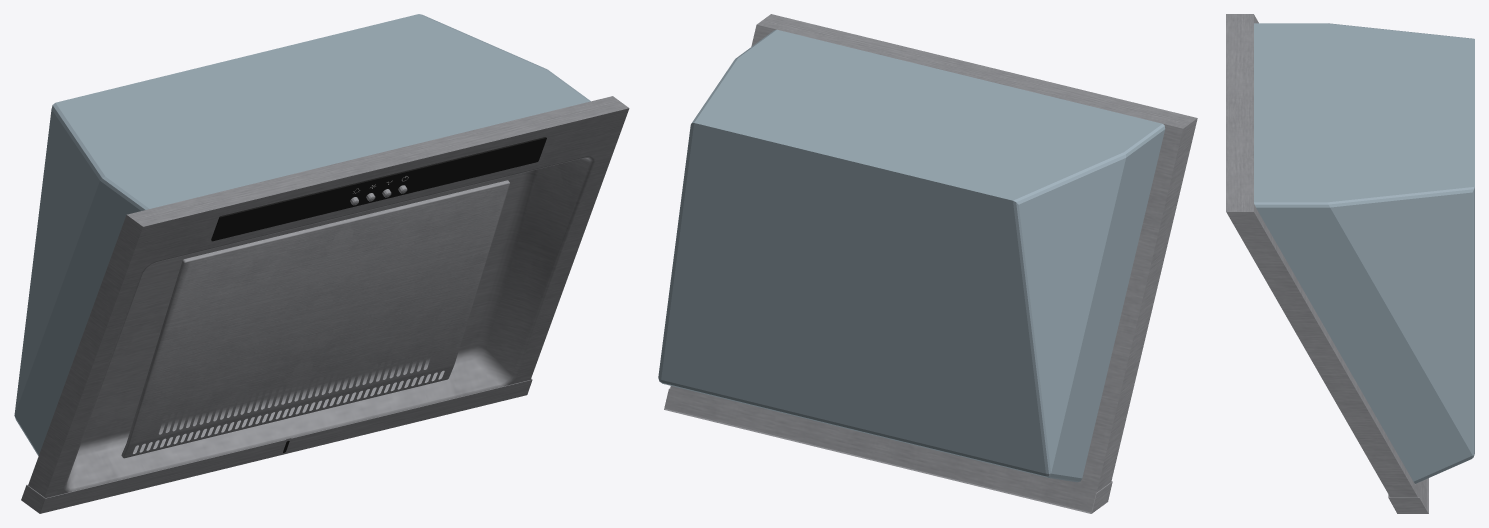
The model's file is kitchen_hood.glb.
3 views of the same model, side by side, from view 1: azimuth 30°, elevation 25°; view 2: azimuth 150°, elevation 25°; view 3: azimuth 270°, elevation 25° (orthographic). The views are drawn at different scales.
Parts seen in each view (by area): view 1: 002_Plane.000, 001_Plane.002, 003_Plane.003, 005_Plane.004, 004_Plane.001; view 2: 002_Plane.000, 001_Plane.002, 005_Plane.004; view 3: 002_Plane.000, 001_Plane.002, 005_Plane.004.
Boxes of the visible parts, x1,y1,x2,y2 form: 002_Plane.000: [14, 14, 590, 455]; 001_Plane.002: [28, 96, 629, 498]; 003_Plane.003: [121, 180, 509, 458]; 005_Plane.004: [21, 378, 532, 513]; 004_Plane.001: [211, 137, 546, 241]; 002_Plane.000: [658, 29, 1165, 482]; 001_Plane.002: [665, 14, 1197, 512]; 005_Plane.004: [664, 388, 1112, 513]; 002_Plane.000: [1254, 23, 1474, 483]; 001_Plane.002: [1226, 14, 1427, 510]; 005_Plane.004: [1388, 478, 1428, 513].
Bounding box in the file's own units: 0.6 × 0.426 × 0.318.
4 materials, 1 textured.
